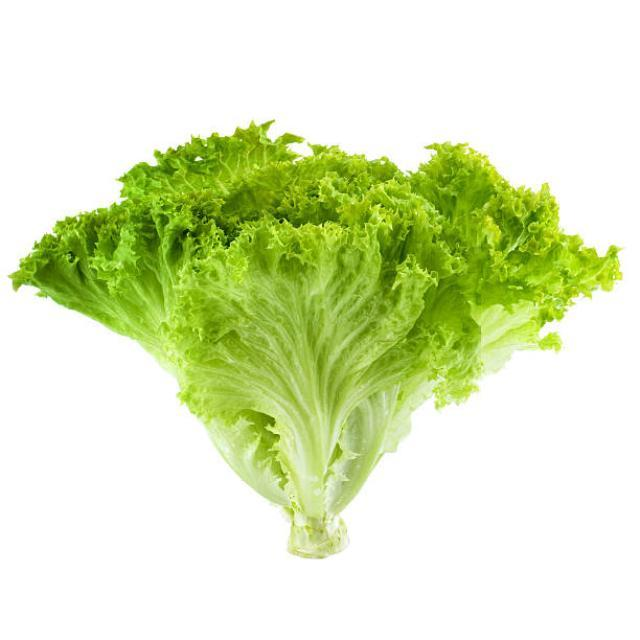Lettuce-Ready-to-Harvest: (11, 111, 622, 575)
